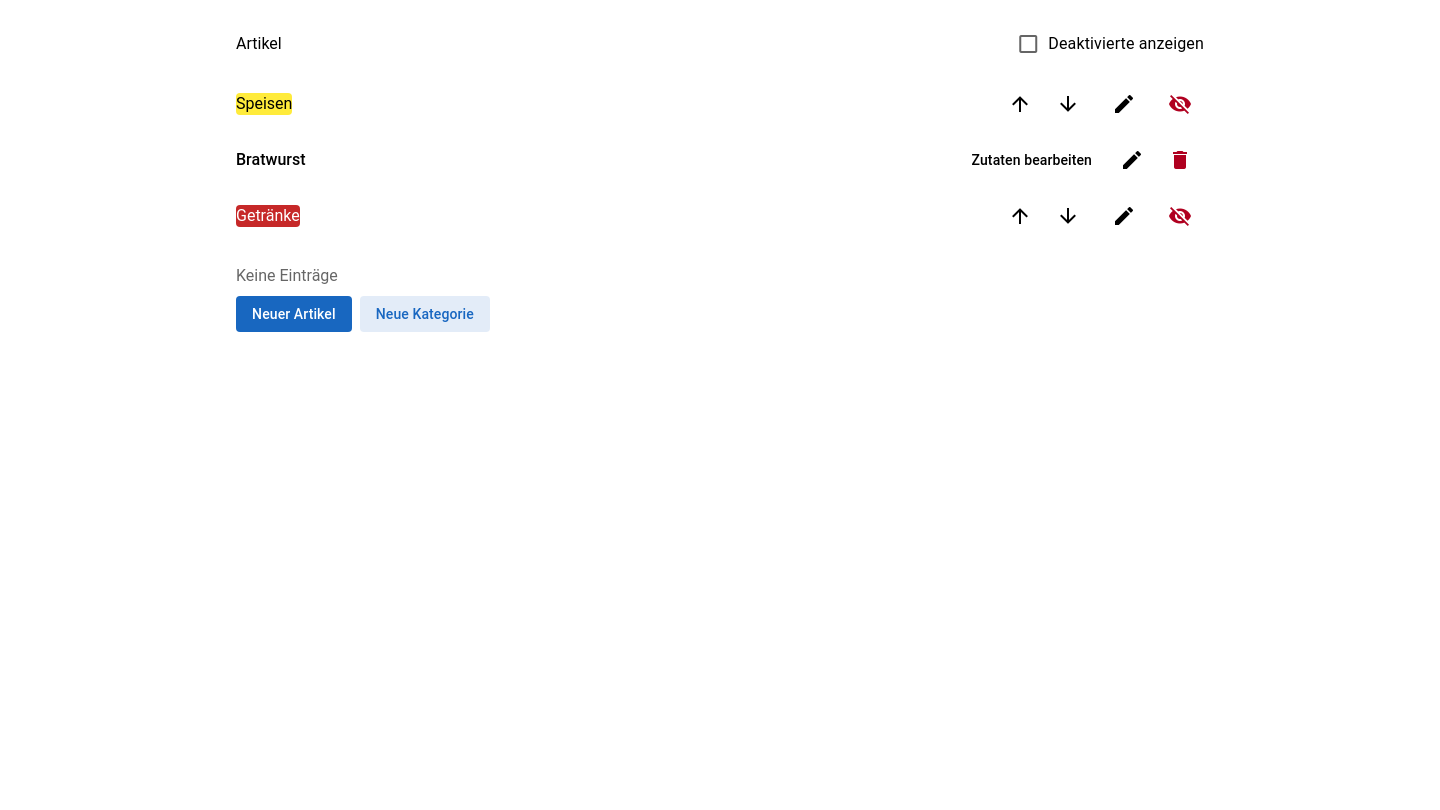
Test case: deactivating an item › asks before it happens
This screenshot has width=1440, height=810.
Expected: the element with test id "item-row" is shown, [236,136,1204,184]
Click the button with test id "deactivate-item" at (1180, 160), box [1156,136,1204,184]
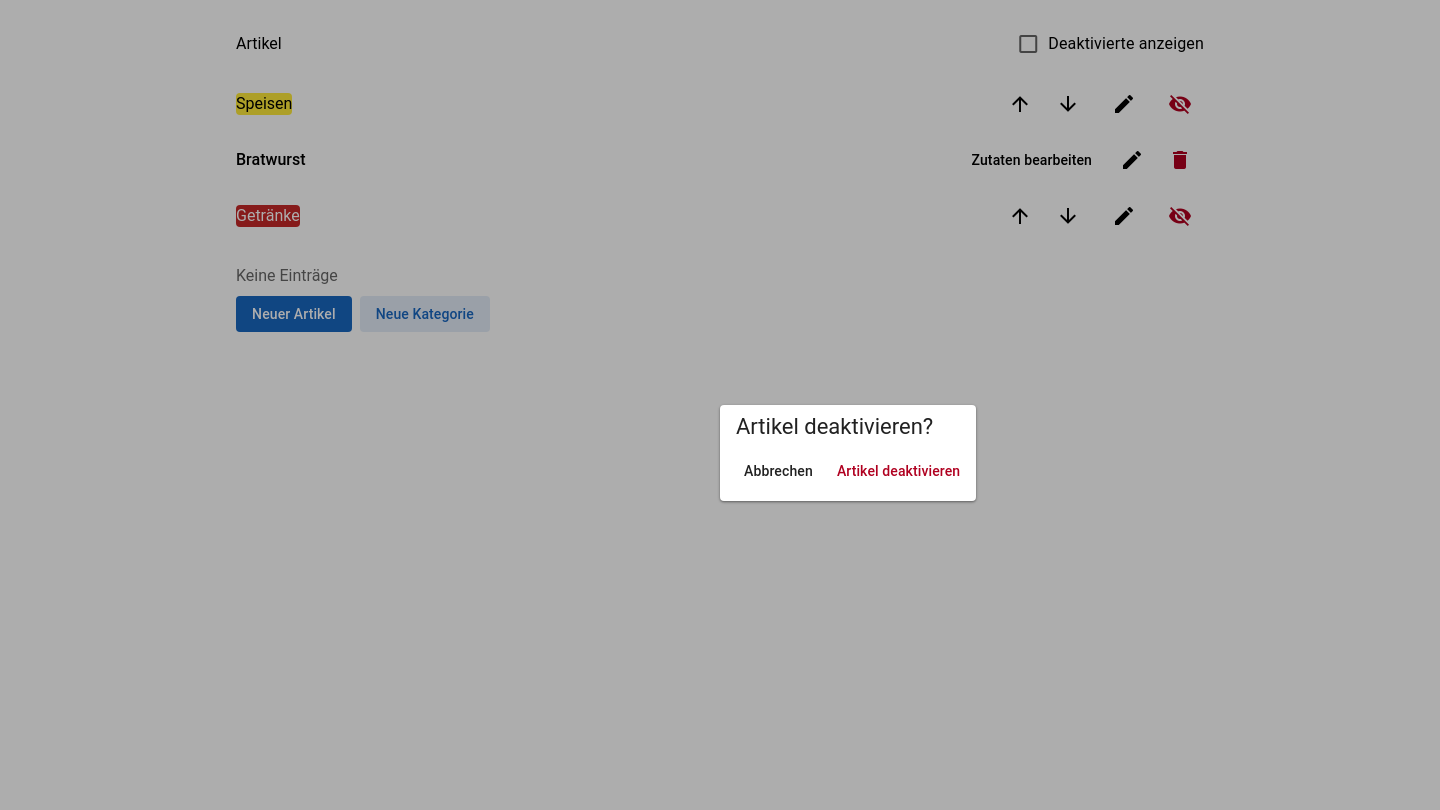
Expected: the element with test id "confirm-dialog" is shown, [720,405,976,501]
